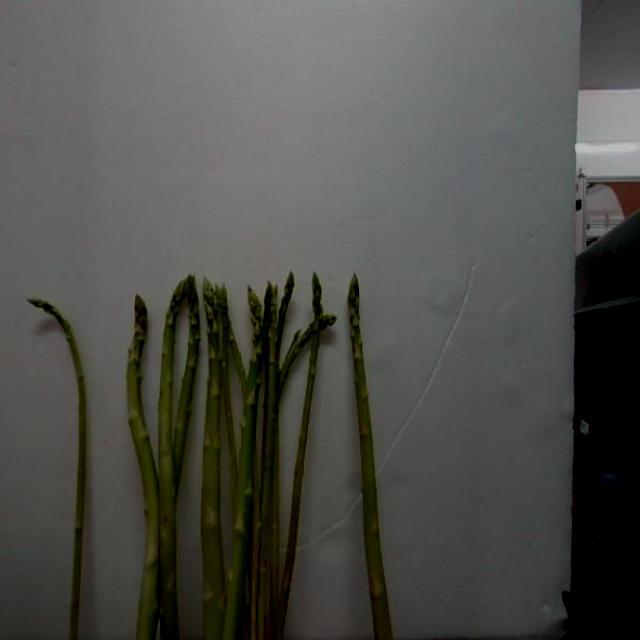aspargus: (28, 298, 91, 640), (345, 276, 393, 640)
